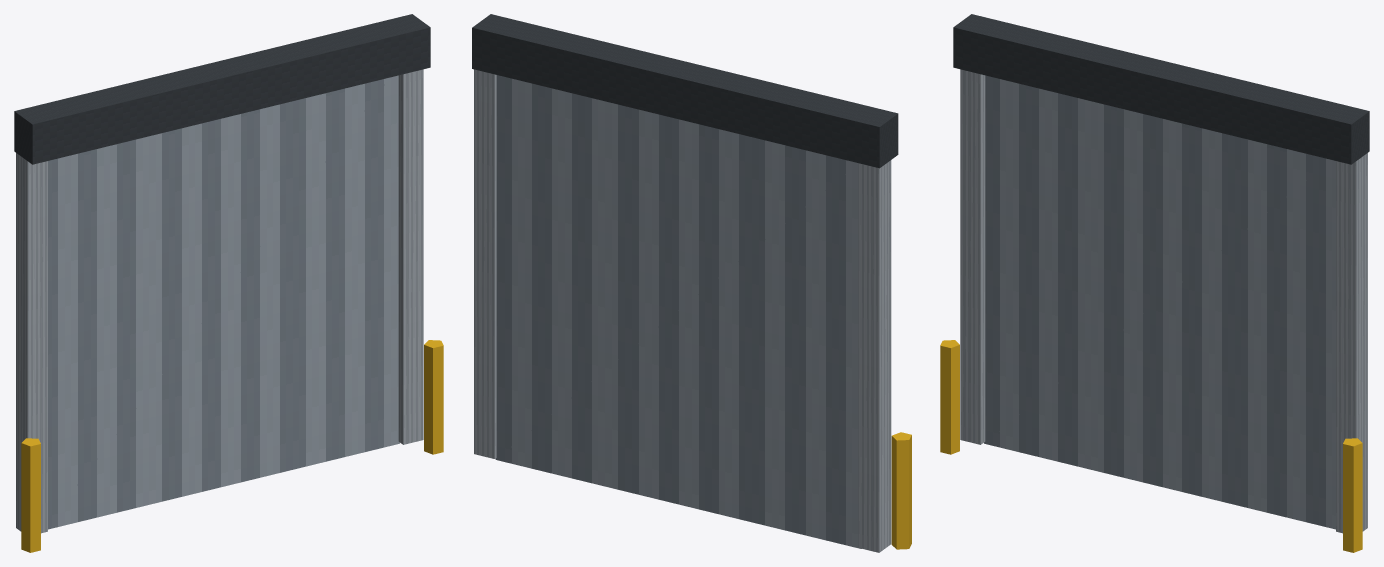
File: industrial-door-lod0.glb
3 renders of one model, left to right at view 1: azimuth 30°, elevation 25°; view 2: azimuth 150°, elevation 25°; view 3: azimuth 330°, elevation 25°, orthographic. The views are drawn at different scales.
Parts seen in each view (by area): view 1: industrial-door-lod0; view 2: industrial-door-lod0; view 3: industrial-door-lod0.
Boxes of the visible parts, x1,y1,x2,y2 form: industrial-door-lod0: (14, 14, 443, 552); industrial-door-lod0: (472, 14, 911, 552); industrial-door-lod0: (940, 14, 1369, 552).
Bounding box in the file's own units: 3.71 × 3.57 × 0.3647.
1 material, 1 textured.
